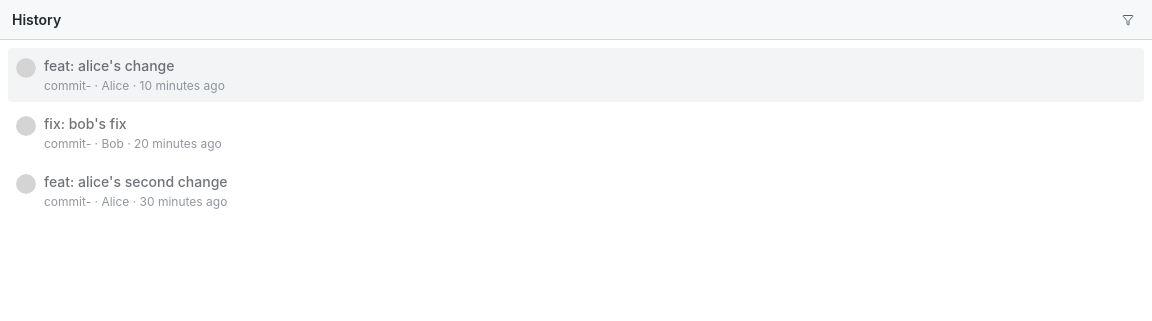
Scenario: Sidebar › author filter › filters commits when an author is selected
The width and height of the screenshot is (1152, 321).
Check: the text "feat: alice's change" is shown, box [44,57,174,74]
Check: the text "fix: bob's fix" is shown, box [44,115,126,132]
// Open filter and select Alice
Click the button with test id "author-filter-button": [1128, 20] box [1116,12,1140,28]
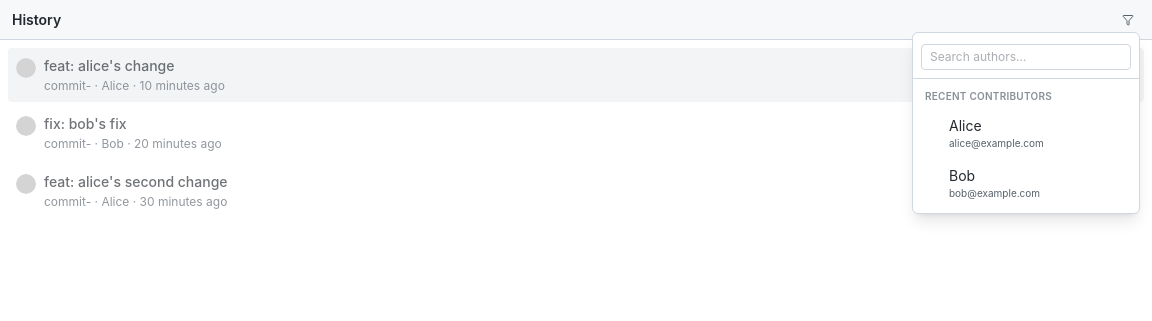
Check: the menu item "Alice alice@example.com" is shown
Click the menu item "Alice alice@example.com": [965, 126] box [949,117,1044,149]
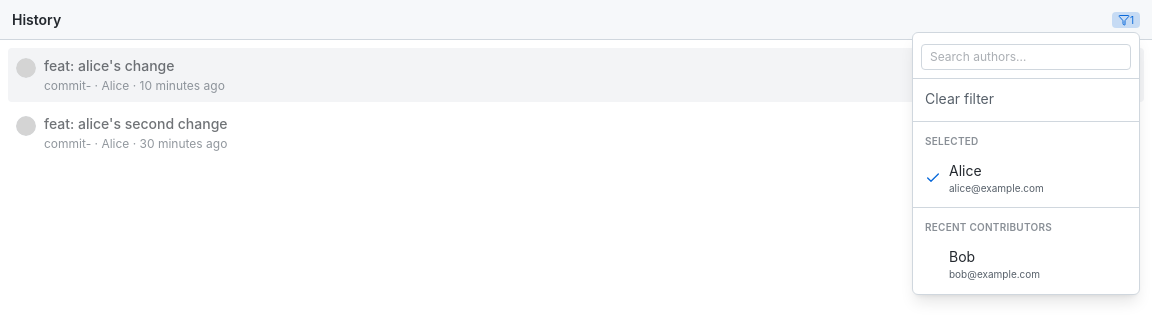
Check: the text "feat: alice's change" is shown, box [44,57,174,74]
Check: the option "fix: bob's fix" is gone
